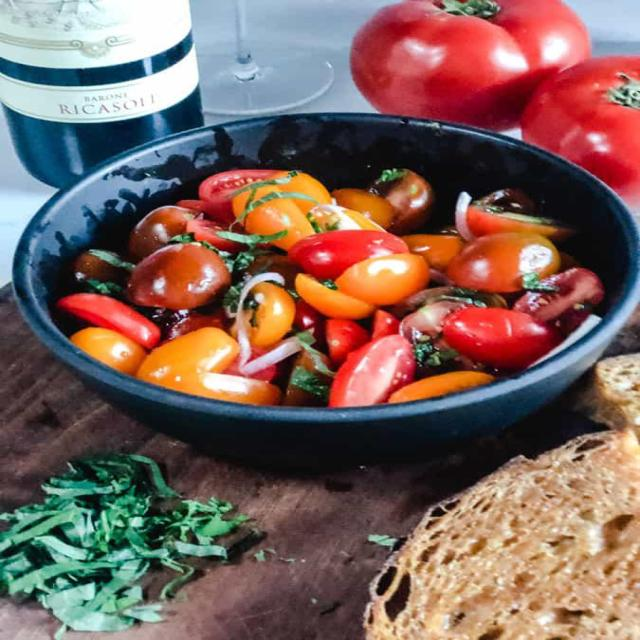Tomato: (345, 0, 587, 124), (299, 226, 402, 274)
